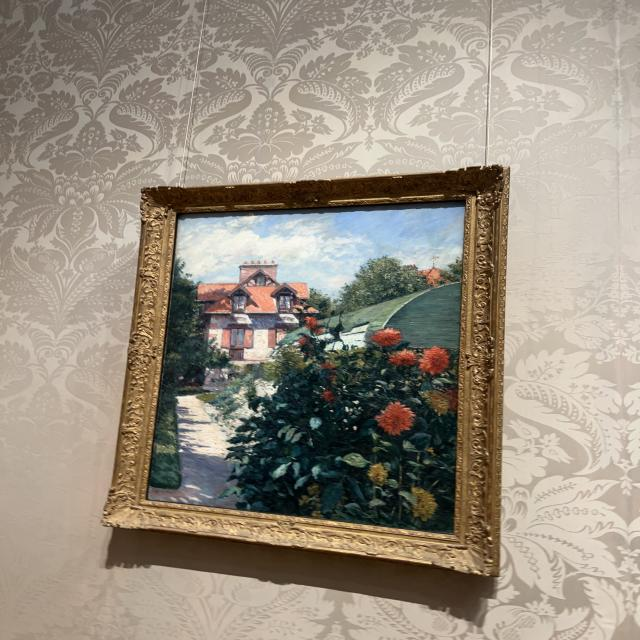summer: (147, 201, 463, 535)
